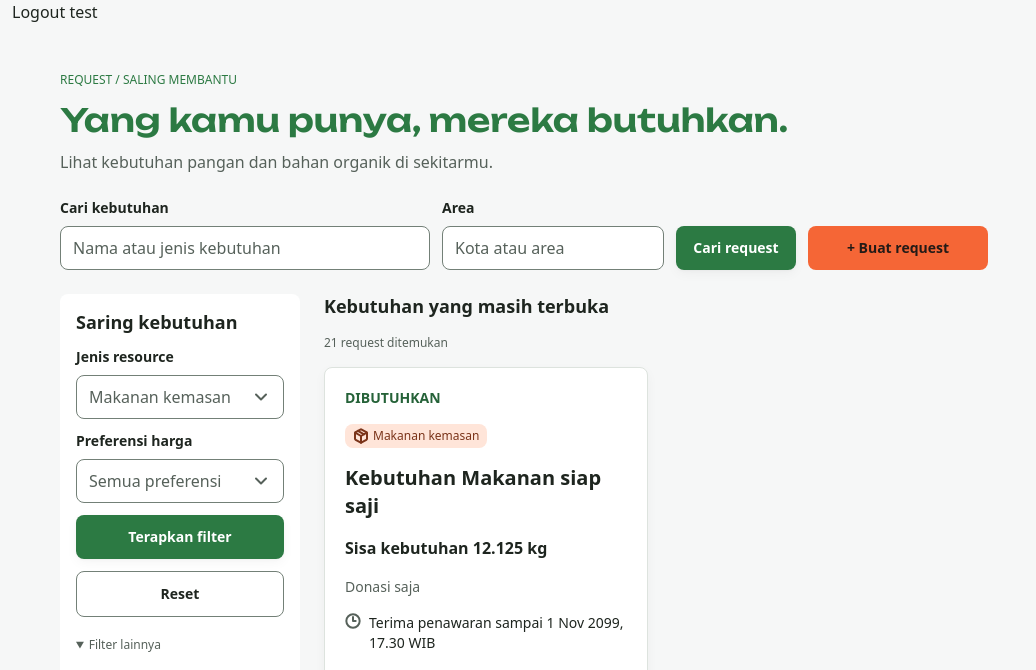
clears incompatible draft fields when changing resource type
The width and height of the screenshot is (1036, 670).
Select "Bahan organik" in the dropdown labelled "Jenis resource" at (180, 397), box [76,375,284,419]
(page scrolled)
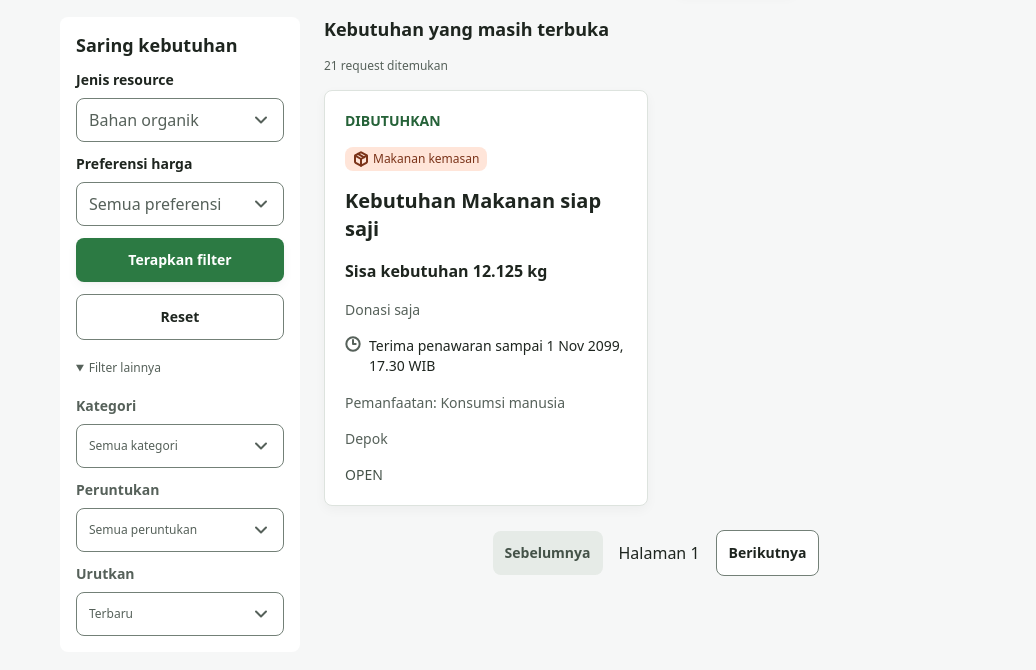
Expected: the element named "intended_use" does not show "Konsumsi manusia"
Result: the dropdown named "category" shows "Semua kategori" at [76,424,284,468]
Result: the dropdown named "intended_use" shows "Semua peruntukan" at [76,508,284,552]
